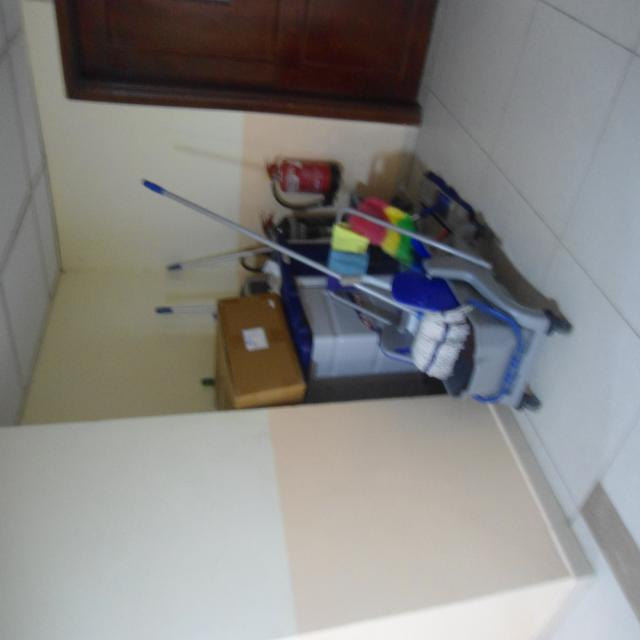obstacle: (142, 158, 571, 412)
wall: (142, 173, 570, 410), (215, 293, 306, 410)
